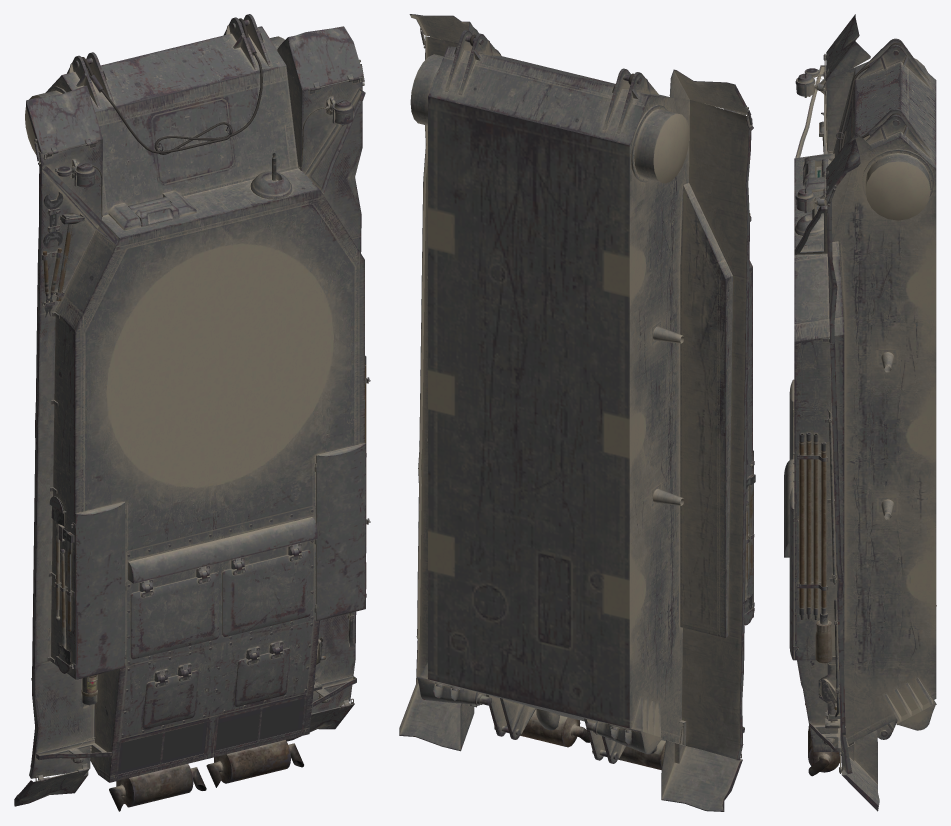
The model's file is Hull.glb.
The picture shows the model from 3 angles, left to right: view 1: azimuth 30°, elevation 25°; view 2: azimuth 150°, elevation 25°; view 3: azimuth 270°, elevation 25°; orthographic projection. The views are drawn at different scales.
Parts seen in each view (by area): view 1: set_0_group_0; view 2: set_0_group_0; view 3: set_0_group_0.
Part boxes in pixels (x1,y1,x2,y2): set_0_group_0: (14, 14, 370, 811); set_0_group_0: (399, 14, 755, 811); set_0_group_0: (784, 14, 936, 811).
Bounding box in the file's own units: 3.2 × 6.8 × 1.42.
Materials: 1 (1 with a texture image).
